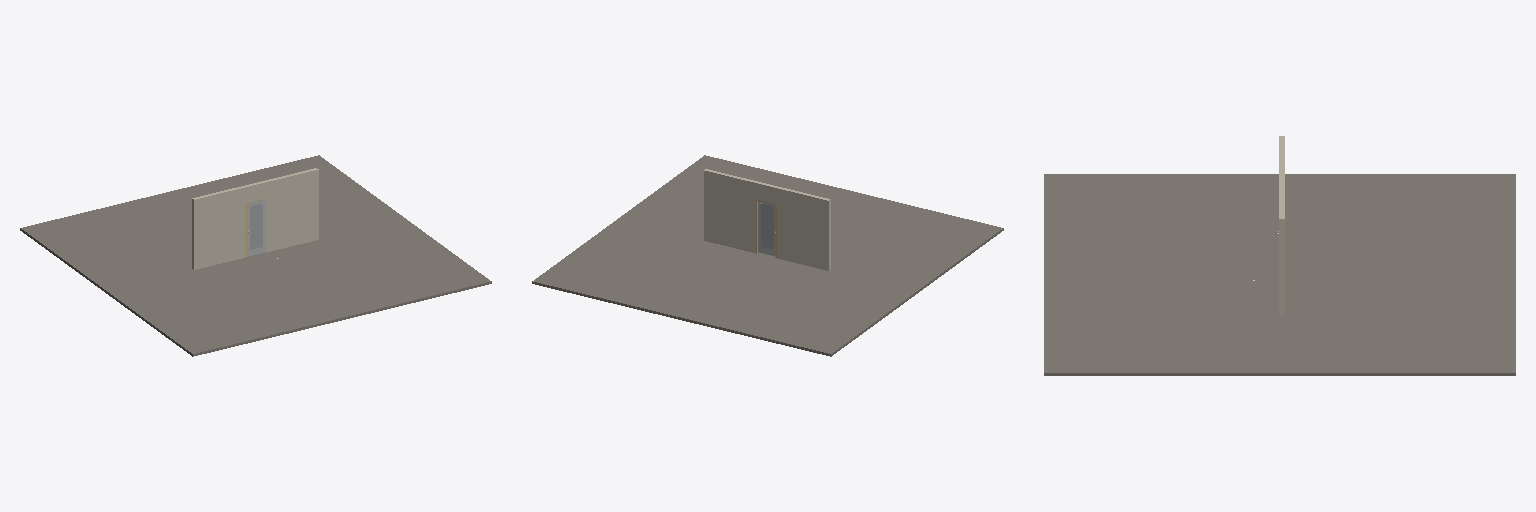
URDF robot description (db0410_swing_single_simple):
<?xml version="1.0" ?>
<robot xmlns:doorbench="https://github.com/adamraudonis/DoorBench/schema/urdf-ext" name="db0410_swing_single_simple">
  <link name="world_env">
    <visual name="floor_vis">
      <origin xyz="0 0 -0.05" rpy="0 0 0"/>
      <geometry>
        <box size="12 12 0.1"/>
      </geometry>
      <material name="mat_floor"/>
    </visual>
    <collision name="floor_col">
      <origin xyz="0 0 -0.05" rpy="0 0 0"/>
      <geometry>
        <box size="12 12 0.1"/>
      </geometry>
    </collision>
    <visual name="wall_left_vis">
      <origin xyz="-1.467 0.0435 1.35" rpy="0 0 0"/>
      <geometry>
        <box size="2.066 0.145 2.7"/>
      </geometry>
      <material name="mat_wall"/>
    </visual>
    <collision name="wall_left_col">
      <origin xyz="-1.467 0.0435 1.35" rpy="0 0 0"/>
      <geometry>
        <box size="2.066 0.145 2.7"/>
      </geometry>
    </collision>
    <visual name="wall_right_vis">
      <origin xyz="1.452 0.0435 1.35" rpy="0 0 0"/>
      <geometry>
        <box size="2.096 0.145 2.7"/>
      </geometry>
      <material name="mat_wall"/>
    </visual>
    <collision name="wall_right_col">
      <origin xyz="1.452 0.0435 1.35" rpy="0 0 0"/>
      <geometry>
        <box size="2.096 0.145 2.7"/>
      </geometry>
    </collision>
    <visual name="wall_header_vis">
      <origin xyz="-0.015 0.0435 2.397" rpy="0 0 0"/>
      <geometry>
        <box size="0.838 0.145 0.606"/>
      </geometry>
      <material name="mat_wall"/>
    </visual>
    <collision name="wall_header_col">
      <origin xyz="-0.015 0.0435 2.397" rpy="0 0 0"/>
      <geometry>
        <box size="0.838 0.145 0.606"/>
      </geometry>
    </collision>
    <visual name="hinge_0_jamb_vis">
      <origin xyz="0.382 -0.029 0.259" rpy="3.141593 0 3.141593"/>
      <geometry>
        <mesh filename="../../hardware/hinge_jamb_c0c0a62ada.obj"/>
      </geometry>
      <material name="mat_hinge"/>
    </visual>
    <visual name="hinge_1_jamb_vis">
      <origin xyz="0.382 -0.029 1.025" rpy="3.141593 0 3.141593"/>
      <geometry>
        <mesh filename="../../hardware/hinge_jamb_c0c0a62ada.obj"/>
      </geometry>
      <material name="mat_hinge"/>
    </visual>
    <visual name="hinge_2_jamb_vis">
      <origin xyz="0.382 -0.029 1.861" rpy="3.141593 0 3.141593"/>
      <geometry>
        <mesh filename="../../hardware/hinge_jamb_c0c0a62ada.obj"/>
      </geometry>
      <material name="mat_hinge"/>
    </visual>
    <visual name="jamb_hinge_vis">
      <origin xyz="0.3945 0.0435 1.0225" rpy="0 0 0"/>
      <geometry>
        <box size="0.019 0.145 2.045"/>
      </geometry>
      <material name="mat_frame"/>
    </visual>
    <collision name="jamb_hinge_col">
      <origin xyz="0.3945 0.0435 1.0225" rpy="0 0 0"/>
      <geometry>
        <box size="0.019 0.145 2.045"/>
      </geometry>
    </collision>
    <visual name="strike_965_wall_n_vis">
      <origin xyz="-0.4095 0.061925 0.965" rpy="0 0 0"/>
      <geometry>
        <box size="0.049 0.10815 0.0334"/>
      </geometry>
      <material name="mat_frame"/>
    </visual>
    <collision name="strike_965_wall_n_col">
      <origin xyz="-0.4095 0.061925 0.965" rpy="0 0 0"/>
      <geometry>
        <box size="0.049 0.10815 0.0334"/>
      </geometry>
    </collision>
    <visual name="strike_965_wall_p_vis">
      <origin xyz="-0.4095 -0.01585 0.965" rpy="0 0 0"/>
      <geometry>
        <box size="0.049 0.016 0.0334"/>
      </geometry>
      <material name="mat_frame"/>
    </visual>
    <collision name="strike_965_wall_p_col">
      <origin xyz="-0.4095 -0.01585 0.965" rpy="0 0 0"/>
      <geometry>
        <box size="0.049 0.016 0.0334"/>
      </geometry>
    </collision>
    <visual name="strike_965_ramp_vis">
      <origin xyz="-0.414136 -0.028673 0.965" rpy="0 0 -0.428384"/>
      <geometry>
        <box size="0.049 0.03298 0.0334"/>
      </geometry>
      <material name="mat_frame"/>
    </visual>
    <collision name="strike_965_ramp_col">
      <origin xyz="-0.414136 -0.028673 0.965" rpy="0 0 -0.428384"/>
      <geometry>
        <box size="0.049 0.03298 0.0334"/>
      </geometry>
    </collision>
    <visual name="strike_965_back_vis">
      <origin xyz="-0.41785 0 0.965" rpy="0 0 0"/>
      <geometry>
        <box size="0.0323 0.0157 0.0334"/>
      </geometry>
      <material name="mat_frame"/>
    </visual>
    <collision name="strike_965_back_col">
      <origin xyz="-0.41785 0 0.965" rpy="0 0 0"/>
      <geometry>
        <box size="0.0323 0.0157 0.0334"/>
      </geometry>
    </collision>
    <visual name="jamb_strike_0_vis">
      <origin xyz="-0.4095 0.0435 0.47415" rpy="0 0 0"/>
      <geometry>
        <box size="0.049 0.145 0.9483"/>
      </geometry>
      <material name="mat_frame"/>
    </visual>
    <collision name="jamb_strike_0_col">
      <origin xyz="-0.4095 0.0435 0.47415" rpy="0 0 0"/>
      <geometry>
        <box size="0.049 0.145 0.9483"/>
      </geometry>
    </collision>
    <visual name="jamb_strike_1_vis">
      <origin xyz="-0.4095 0.0435 1.51335" rpy="0 0 0"/>
      <geometry>
        <box size="0.049 0.145 1.0633"/>
      </geometry>
      <material name="mat_frame"/>
    </visual>
    <collision name="jamb_strike_1_col">
      <origin xyz="-0.4095 0.0435 1.51335" rpy="0 0 0"/>
      <geometry>
        <box size="0.049 0.145 1.0633"/>
      </geometry>
    </collision>
    <visual name="jamb_head_vis">
      <origin xyz="-0.015 0.0435 2.0545" rpy="0 0 0"/>
      <geometry>
        <box size="0.838 0.145 0.019"/>
      </geometry>
      <material name="mat_frame"/>
    </visual>
    <collision name="jamb_head_col">
      <origin xyz="-0.015 0.0435 2.0545" rpy="0 0 0"/>
      <geometry>
        <box size="0.838 0.145 0.019"/>
      </geometry>
    </collision>
    <visual name="head_stud_vis">
      <origin xyz="-0.015 0.0435 2.079" rpy="0 0 0"/>
      <geometry>
        <box size="0.838 0.145 0.03"/>
      </geometry>
      <material name="mat_wall"/>
    </visual>
    <collision name="head_stud_col">
      <origin xyz="-0.015 0.0435 2.079" rpy="0 0 0"/>
      <geometry>
        <box size="0.838 0.145 0.03"/>
      </geometry>
    </collision>
    <visual name="stop_hinge_vis">
      <origin xyz="0.3795 0.0385 1.0225" rpy="0 0 0"/>
      <geometry>
        <box size="0.011 0.032 2.045"/>
      </geometry>
      <material name="mat_frame"/>
    </visual>
    <collision name="stop_hinge_col">
      <origin xyz="0.3795 0.0385 1.0225" rpy="0 0 0"/>
      <geometry>
        <box size="0.011 0.032 2.045"/>
      </geometry>
    </collision>
    <visual name="stop_strike_vis">
      <origin xyz="-0.3795 0.0385 1.0225" rpy="0 0 0"/>
      <geometry>
        <box size="0.011 0.032 2.045"/>
      </geometry>
      <material name="mat_frame"/>
    </visual>
    <collision name="stop_strike_col">
      <origin xyz="-0.3795 0.0385 1.0225" rpy="0 0 0"/>
      <geometry>
        <box size="0.011 0.032 2.045"/>
      </geometry>
    </collision>
    <visual name="stop_head_vis">
      <origin xyz="0 0.0385 2.0395" rpy="0 0 0"/>
      <geometry>
        <box size="0.77 0.032 0.011"/>
      </geometry>
      <material name="mat_frame"/>
    </visual>
    <collision name="stop_head_col">
      <origin xyz="0 0.0385 2.0395" rpy="0 0 0"/>
      <geometry>
        <box size="0.77 0.032 0.011"/>
      </geometry>
    </collision>
    <visual name="seal_hinge_vis">
      <origin xyz="0.382 0.0235 1.0225" rpy="0 0 0"/>
      <geometry>
        <box size="0.008 0.003 2.045"/>
      </geometry>
      <material name="mat_seal"/>
    </visual>
    <visual name="seal_strike_vis">
      <origin xyz="-0.382 0.0235 1.0225" rpy="0 0 0"/>
      <geometry>
        <box size="0.008 0.003 2.045"/>
      </geometry>
      <material name="mat_seal"/>
    </visual>
    <visual name="seal_head_vis">
      <origin xyz="0 0.0235 2.033" rpy="0 0 0"/>
      <geometry>
        <box size="0.73 0.003 0.016"/>
      </geometry>
      <material name="mat_seal"/>
    </visual>
    <visual name="floor_stop_dome_vis">
      <origin xyz="0.458375 -0.672492 0" rpy="0 0 0"/>
      <geometry>
        <sphere radius="0.025"/>
      </geometry>
      <material name="mat_stop"/>
    </visual>
    <collision name="floor_stop_dome_col">
      <origin xyz="0.458375 -0.672492 0" rpy="0 0 0"/>
      <geometry>
        <sphere radius="0.025"/>
      </geometry>
    </collision>
  </link>
  <link name="leaf">
    <inertial>
      <origin xyz="-0.377677 0.028861 1.025206" rpy="0 0 0"/>
      <mass value="51.373454"/>
      <inertia ixx="17.718737486" ixy="0.002694534" ixz="-0.004372611" iyy="20.241398029" iyz="0.000164957" izz="2.539547883"/>
    </inertial>
    <visual name="leaf_slab_vis">
      <origin xyz="-0.381 0.029 1.025" rpy="0 0 0"/>
      <geometry>
        <box size="0.762 0.044 2.032"/>
      </geometry>
      <material name="mat_leaf"/>
    </visual>
    <collision name="leaf_slab_col">
      <origin xyz="-0.381 0.029 1.025" rpy="0 0 0"/>
      <geometry>
        <box size="0.762 0.044 2.032"/>
      </geometry>
    </collision>
    <visual name="leaf_panel_0_n_vis">
      <origin xyz="-0.381 0.004 1.08596" rpy="0 0 0"/>
      <geometry>
        <box size="0.542 0.006 1.66688"/>
      </geometry>
      <material name="mat_leaf_panel"/>
    </visual>
    <visual name="leaf_panel_0_p_vis">
      <origin xyz="-0.381 0.054 1.08596" rpy="0 0 0"/>
      <geometry>
        <box size="0.542 0.006 1.66688"/>
      </geometry>
      <material name="mat_leaf_panel"/>
    </visual>
    <visual name="hinge_0_vis">
      <origin xyz="0 0 0.259" rpy="3.141593 0 3.141593"/>
      <geometry>
        <mesh filename="../../hardware/hinge_2af0f4d6ca.obj"/>
      </geometry>
      <material name="mat_hinge"/>
    </visual>
    <visual name="hinge_1_vis">
      <origin xyz="0 0 1.025" rpy="3.141593 0 3.141593"/>
      <geometry>
        <mesh filename="../../hardware/hinge_2af0f4d6ca.obj"/>
      </geometry>
      <material name="mat_hinge"/>
    </visual>
    <visual name="hinge_2_vis">
      <origin xyz="0 0 1.861" rpy="3.141593 0 3.141593"/>
      <geometry>
        <mesh filename="../../hardware/hinge_2af0f4d6ca.obj"/>
      </geometry>
      <material name="mat_hinge"/>
    </visual>
    <visual name="leaf_latch_bolt_faceplate_vis">
      <origin xyz="-0.7614 0.029 0.965" rpy="0 0 0"/>
      <geometry>
        <box size="0.0012 0.0247 0.0534"/>
      </geometry>
      <material name="mat_bolt"/>
    </visual>
  </link>
  <link name="leaf_handle">
    <inertial>
      <origin xyz="0 0 0" rpy="0 0 0"/>
      <mass value="0.91853"/>
      <inertia ixx="0.003440231" ixy="0" ixz="0" iyy="0.000214357" iyz="0" izz="0.003440231"/>
    </inertial>
    <visual name="leaf_handle_knob_n_vis">
      <origin xyz="0 -0.022 0" rpy="-1.570796 0 3.141593"/>
      <geometry>
        <mesh filename="../../hardware/knob_98a7916ed0.obj"/>
      </geometry>
      <material name="mat_op_glass_clear"/>
    </visual>
    <visual name="leaf_handle_knob_col_n_vis">
      <origin xyz="0 -0.067 0" rpy="0 0 0"/>
      <geometry>
        <sphere radius="0.0234"/>
      </geometry>
      <material name="mat_op_glass_clear"/>
    </visual>
    <collision name="leaf_handle_knob_col_n_col">
      <origin xyz="0 -0.067 0" rpy="0 0 0"/>
      <geometry>
        <sphere radius="0.0234"/>
      </geometry>
    </collision>
    <collision name="leaf_handle_knob_neck_n_col">
      <origin xyz="0 -0.034 0" rpy="-1.570796 0 0"/>
      <geometry>
        <cylinder radius="0.011" length="0.024"/>
      </geometry>
    </collision>
    <visual name="leaf_handle_knob_p_vis">
      <origin xyz="0 0.022 0" rpy="1.570796 0 3.141593"/>
      <geometry>
        <mesh filename="../../hardware/knob_98a7916ed0.obj"/>
      </geometry>
      <material name="mat_op_glass_clear"/>
    </visual>
    <visual name="leaf_handle_knob_col_p_vis">
      <origin xyz="0 0.067 0" rpy="0 0 0"/>
      <geometry>
        <sphere radius="0.0234"/>
      </geometry>
      <material name="mat_op_glass_clear"/>
    </visual>
    <collision name="leaf_handle_knob_col_p_col">
      <origin xyz="0 0.067 0" rpy="0 0 0"/>
      <geometry>
        <sphere radius="0.0234"/>
      </geometry>
    </collision>
    <collision name="leaf_handle_knob_neck_p_col">
      <origin xyz="0 0.034 0" rpy="-1.570796 0 0"/>
      <geometry>
        <cylinder radius="0.011" length="0.024"/>
      </geometry>
    </collision>
  </link>
  <link name="leaf_latch_bolt">
    <inertial>
      <origin xyz="0.00865 0 0" rpy="0 0 0"/>
      <mass value="0.041419"/>
      <inertia ixx="0.000000798" ixy="0" ixz="0" iyy="0.000005598" iyz="0" izz="0.000005598"/>
    </inertial>
    <visual name="leaf_latch_bolt_capsule_vis">
      <origin xyz="0.00865 0 0" rpy="0 -1.570796 0"/>
      <geometry>
        <cylinder radius="0.00635" length="0.03"/>
      </geometry>
      <material name="mat_bolt"/>
    </visual>
    <collision name="leaf_latch_bolt_capsule_col">
      <origin xyz="0.00865 0 0" rpy="0 -1.570796 0"/>
      <geometry>
        <cylinder radius="0.00635" length="0.03"/>
      </geometry>
    </collision>
  </link>
  <joint name="leaf_hinge" type="revolute">
    <origin xyz="0.382 -0.029 0" rpy="0 0 0"/>
    <parent link="world_env"/>
    <child link="leaf"/>
    <axis xyz="0 0 1"/>
    <limit lower="0" upper="1.658063" effort="2000" velocity="10"/>
    <dynamics damping="0.173726" friction="1.459348"/>
    <doorbench:closer damping_closing="0" damping_opening="0" backcheck_angle="0" backcheck_damping="0"/>
  </joint>
  <joint name="leaf_handle_hinge" type="revolute">
    <origin xyz="-0.702 0.029 0.965" rpy="0 0 0"/>
    <parent link="leaf"/>
    <child link="leaf_handle"/>
    <axis xyz="0 1 0"/>
    <limit lower="0" upper="0.8" effort="2000" velocity="10"/>
    <dynamics damping="0.119589" friction="0.032"/>
    <doorbench:spring stiffness="0.35" springref="-0.428571" note="tau = -stiffness*(q - springref); not native URDF"/>
  </joint>
  <joint name="leaf_latch_bolt_slide" type="prismatic">
    <origin xyz="-0.762 0.029 0.965" rpy="0 0 0"/>
    <parent link="leaf"/>
    <child link="leaf_latch_bolt"/>
    <axis xyz="1 0 0"/>
    <limit lower="0" upper="0.0127" effort="5000" velocity="10"/>
    <dynamics damping="2" friction="0.3"/>
    <doorbench:spring stiffness="300" springref="-0.008333" note="tau = -stiffness*(q - springref); not native URDF"/>
    <mimic joint="leaf_handle_hinge" multiplier="0.019538" offset="0"/>
    <doorbench:coupling one_sided="true" note="MJCF uses a one-sided tendon (bolt may retract further, e.g. riding over the strike lip); mimic is bilateral"/>
  </joint>
  <material name="mat_bolt">
    <color rgba="0.85 0.66 0.3 1"/>
  </material>
  <material name="mat_floor">
    <color rgba="0.55 0.53 0.5 1"/>
  </material>
  <material name="mat_frame">
    <color rgba="0.82 0.7 0.5 1"/>
  </material>
  <material name="mat_hinge">
    <color rgba="0.65 0.66 0.68 1"/>
  </material>
  <material name="mat_leaf">
    <color rgba="0.72 0.73 0.74 1"/>
  </material>
  <material name="mat_leaf_panel">
    <color rgba="0.662 0.672 0.681 1"/>
  </material>
  <material name="mat_op_glass_clear">
    <color rgba="0.85 0.92 0.95 0.25"/>
  </material>
  <material name="mat_seal">
    <color rgba="0.1 0.1 0.1 1"/>
  </material>
  <material name="mat_stop">
    <color rgba="0.9 0.9 0.92 1"/>
  </material>
  <material name="mat_wall">
    <color rgba="0.78 0.76 0.7 1"/>
  </material>
</robot>

--- Facts derived from the render (not from the file) ---
Views: 3 orthographic renders of the robot side by side, from view 1: azimuth 30°, elevation 25°; view 2: azimuth 150°, elevation 25°; view 3: azimuth 270°, elevation 25°.
Robot: db0410_swing_single_simple — 4 links, 3 joints (2 revolute, 1 prismatic); root link world_env; default pose: all joints at 0.
Links seen in each view (by area): view 1: world_env, leaf; view 2: world_env, leaf; view 3: world_env.
Link boxes in pixels (x1=…): world_env: x1=20, y1=155, x2=491, y2=356; leaf: x1=247, y1=200, x2=265, y2=256; world_env: x1=532, y1=155, x2=1003, y2=356; leaf: x1=758, y1=201, x2=775, y2=256; world_env: x1=1044, y1=136, x2=1515, y2=375.
Bounding box of the posed robot: 12 × 12 × 2.8 m (x, y, z).
8 mesh visuals loaded from 3 distinct referenced files (3 OBJ).
